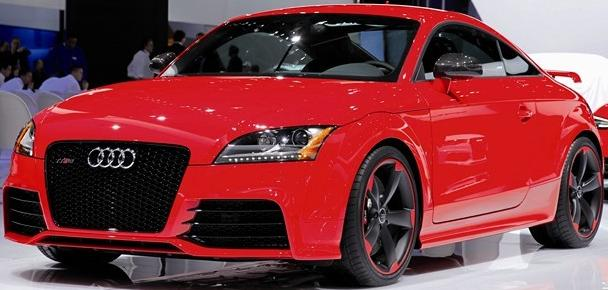front_view: (2, 117, 352, 259)
headlight: (218, 115, 337, 170)
side_glass: (414, 10, 552, 89)
